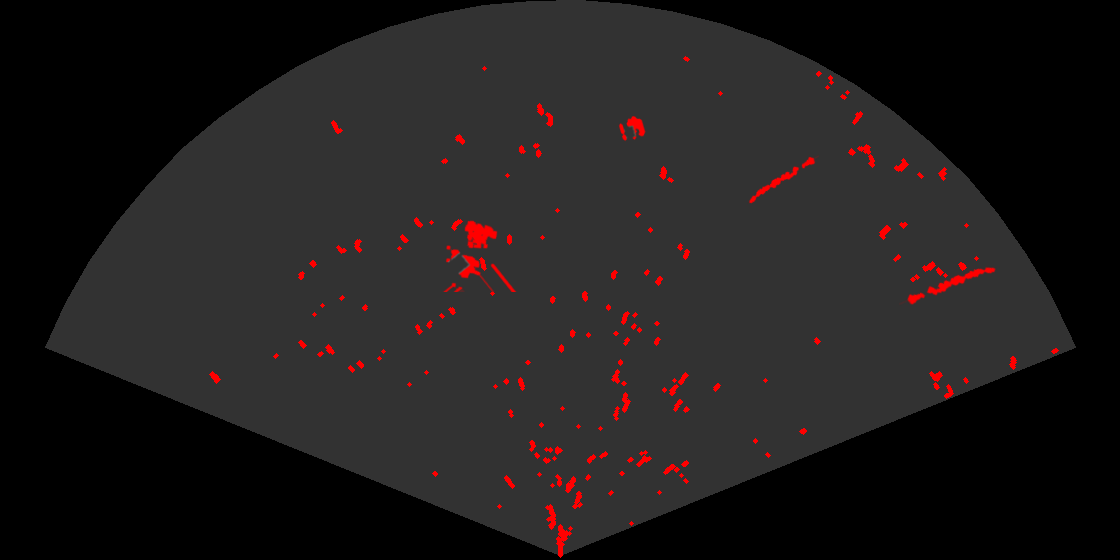ball: (617, 114, 647, 143)
cage: (441, 219, 517, 292)
chain: (899, 265, 997, 306), (747, 154, 819, 205)
